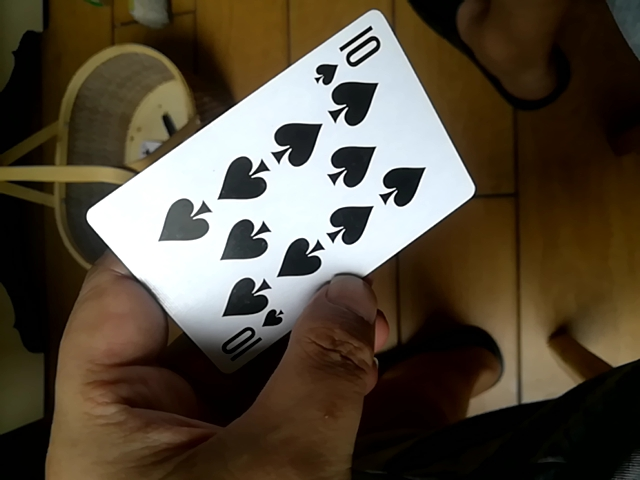ht 10: (83, 10, 475, 371)
